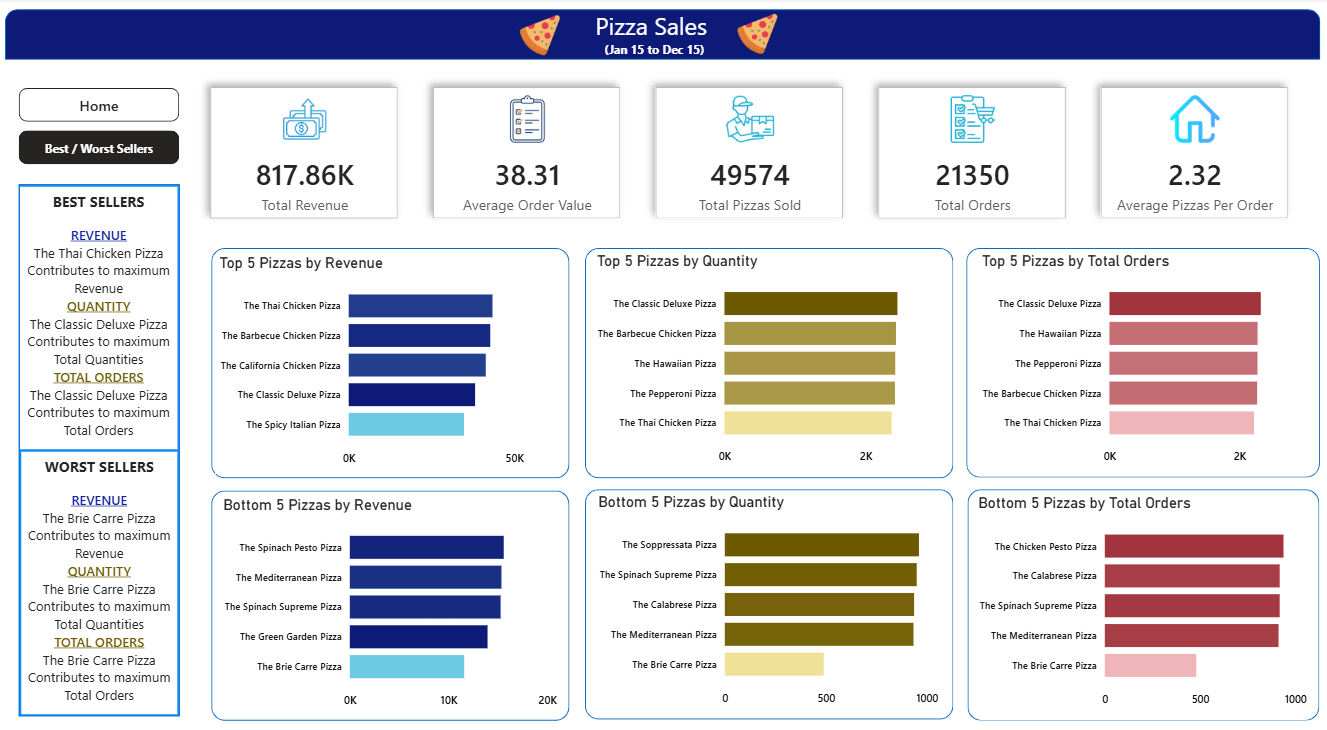

Layout of this report page (visuals, bound fields, positions):
{"tool":"powerbi","page":{"name":"Best / Worst Sellers","canvas":[1500,830],"ordinal":1},"visuals":[{"type":"cardVisual","fields":{"Data":["pizza_sales.Total Revenue","pizza_sales.Average Order Value","pizza_sales.Total Pizzas Sold","pizza_sales.Total Orders","pizza_sales.Average Pizzas Per Order"]},"box":[203.9,68,1284.6,214.1],"z":0},{"type":"group","id":"g1","title":"Group 1","box":[5.1,8.5,1483.4,69.7],"z":1000},{"type":"shape","box":[5.1,12.8,1483.4,56.9],"z":1500,"group":"g1"},{"type":"textbox","box":[629,8.5,215.7,69.7],"z":2000,"group":"g1"},{"type":"shape","box":[238,281.3,403.9,259.7],"z":2000},{"type":"image","box":[564.9,18.6,87.2,47.4],"z":3000,"group":"g1"},{"type":"shape","box":[659.3,281.3,415.5,259.7],"z":3000},{"type":"image","box":[809.6,17.2,87.2,47.4],"z":4000,"group":"g1"},{"type":"shape","box":[1090.3,281.4,398.8,258.9],"z":4000},{"type":"shape","box":[1090.6,554,396.7,261.1],"z":5000},{"type":"shape","box":[659.3,554,415.5,259.7],"z":6000},{"type":"shape","box":[238,555.4,403.9,259.7],"z":7000},{"type":"barChart","title":"Top 5 Pizzas by Revenue","fields":{"Category":["pizza_sales.pizza_name"],"Y":["pizza_sales.Total Revenue"]},"box":[242.4,288.5,390.9,248.1],"z":8000},{"type":"barChart","title":"Bottom 5 Pizzas by Revenue","fields":{"Category":["pizza_sales.pizza_name"],"Y":["pizza_sales.Total Revenue"]},"box":[246.7,561.2,386.6,249.6],"z":9000},{"type":"barChart","title":"Top 5 Pizzas by Quantity","fields":{"Category":["pizza_sales.pizza_name"],"Y":["pizza_sales.Total Pizzas Sold"]},"box":[667.9,285.6,399.6,249.6],"z":10000},{"type":"barChart","title":"Top 5 Pizzas by Total Orders","fields":{"Category":["pizza_sales.pizza_name"],"Y":["pizza_sales.Total Orders"]},"box":[1102.1,285.6,380.8,249.6],"z":11000},{"type":"barChart","title":"Bottom 5 Pizzas by Quantity","fields":{"Category":["pizza_sales.pizza_name"],"Y":["pizza_sales.Total Pizzas Sold"]},"box":[669.4,558.3,393.8,249.6],"z":12000},{"type":"barChart","title":"Bottom 5 Pizzas by Total Orders","fields":{"Category":["pizza_sales.pizza_name"],"Y":["pizza_sales.Total Orders"]},"box":[1097.8,559.7,380.8,249.6],"z":13000},{"type":"shape","box":[21.6,210.6,181.8,600.1],"z":13500},{"type":"pageNavigator","box":[21.6,101,181.8,86.6],"z":14000},{"type":"textbox","box":[24.5,512.1,176,295.7],"z":16000},{"type":"textbox","box":[23.1,213.5,177.4,295.7],"z":17000}]}

Visuals, with their boxes in screenshot pixels (x1, y1, x2, y2), scaled from the page's 1500x830 canvas onto the 1327x730 screenshot:
cardVisual - pizza_sales.Total Revenue x pizza_sales.Average Order Value: bbox=(180, 60, 1317, 248)
"Group 1" group: bbox=(5, 7, 1317, 69)
shape: bbox=(5, 11, 1317, 61)
textbox: bbox=(556, 7, 747, 69)
shape: bbox=(211, 247, 568, 476)
image: bbox=(500, 16, 577, 58)
shape: bbox=(583, 247, 951, 476)
image: bbox=(716, 15, 793, 57)
shape: bbox=(965, 247, 1317, 475)
shape: bbox=(965, 487, 1316, 717)
shape: bbox=(583, 487, 951, 716)
shape: bbox=(211, 488, 568, 717)
"Top 5 Pizzas by Revenue" barChart: bbox=(214, 254, 560, 472)
"Bottom 5 Pizzas by Revenue" barChart: bbox=(218, 494, 560, 713)
"Top 5 Pizzas by Quantity" barChart: bbox=(591, 251, 944, 471)
"Top 5 Pizzas by Total Orders" barChart: bbox=(975, 251, 1312, 471)
"Bottom 5 Pizzas by Quantity" barChart: bbox=(592, 491, 941, 711)
"Bottom 5 Pizzas by Total Orders" barChart: bbox=(971, 492, 1308, 712)
shape: bbox=(19, 185, 180, 713)
pageNavigator: bbox=(19, 89, 180, 165)
textbox: bbox=(22, 450, 177, 710)
textbox: bbox=(20, 188, 177, 448)
